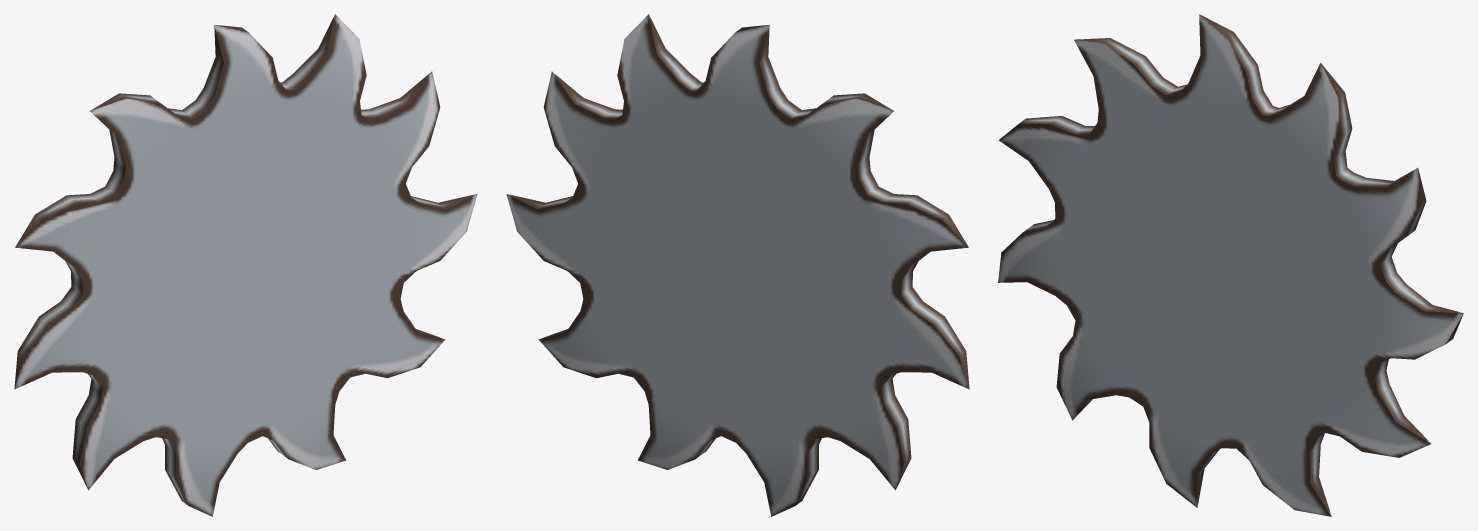
File: Saw.fbx
3 renders of one model, left to right at view 1: azimuth 30°, elevation 25°; view 2: azimuth 150°, elevation 25°; view 3: azimuth 330°, elevation 25°, orthographic.
Visible parts, largest first — view 1: Saw; view 2: Saw; view 3: Saw.
Part boxes in pixels (box(x1,y1,x2,y2)): Saw: box(14, 14, 477, 516); Saw: box(506, 14, 969, 516); Saw: box(998, 14, 1463, 516).
Size of the model in its own units: 57.64 by 58.47 by 2.45.
Materials: 1 (1 with a texture image).
